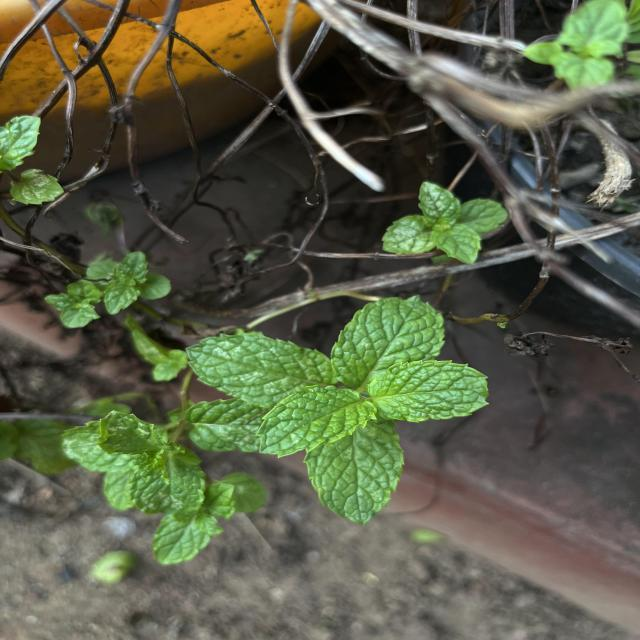Mentha spicata: (185, 328, 330, 409), (329, 292, 446, 388), (303, 420, 406, 528), (254, 384, 379, 459), (368, 358, 491, 424)
